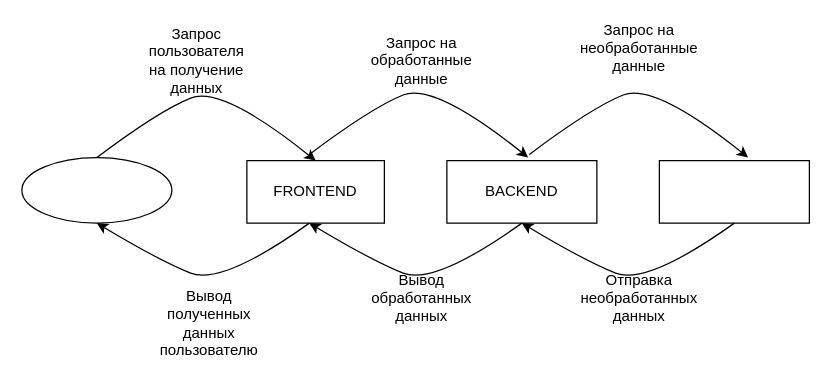
Image size: 831x381. Some labels were removed from this diagram. The centre of each missing label's shape, as x and y in pixels:
Пользователь: (x=96, y=189)
СУБД: (x=733, y=191)
